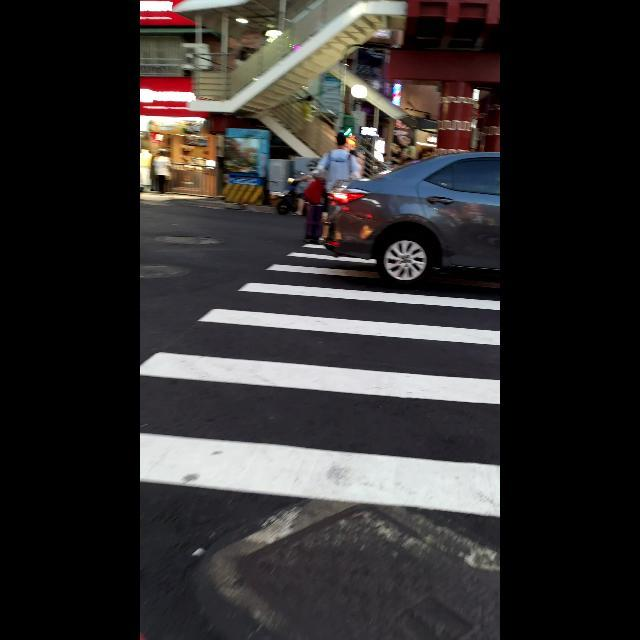sidewalk: (140, 215, 500, 640)
